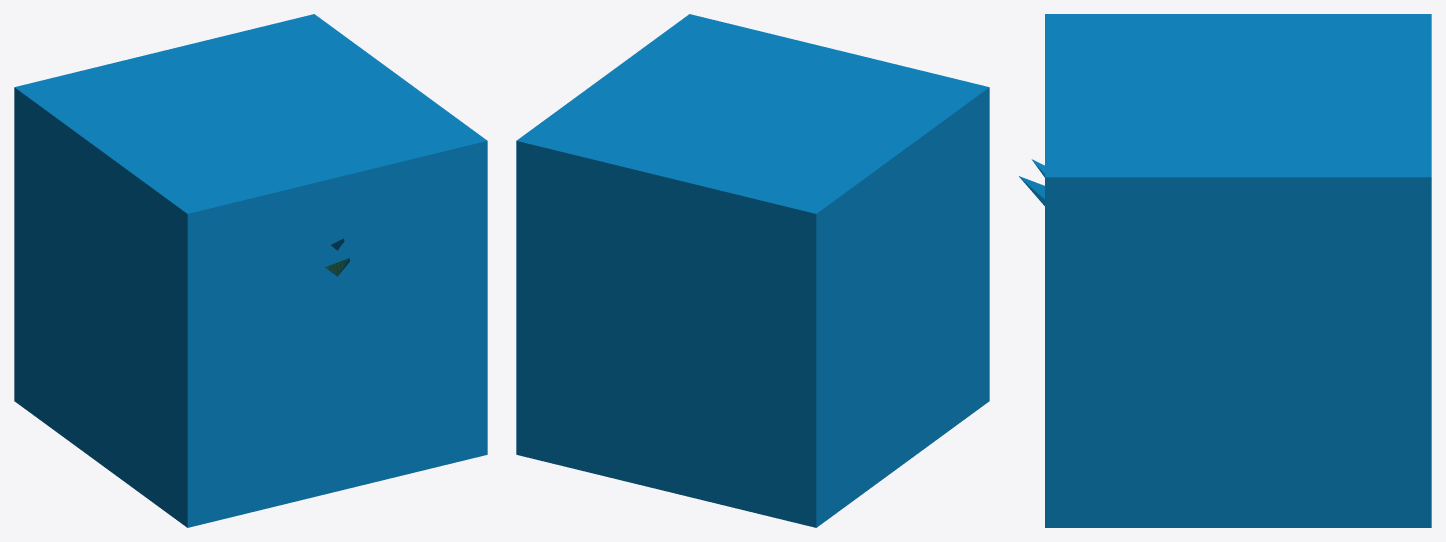
The model's file is grass.fbx.
3 views of the same model, side by side, from view 1: azimuth 30°, elevation 25°; view 2: azimuth 150°, elevation 25°; view 3: azimuth 270°, elevation 25° (orthographic). The views are drawn at different scales.
Parts seen in each view (by area): view 1: base; view 2: base; view 3: base.
Part boxes in pixels (x1,y1,x2,y2): base: (14, 14, 487, 527); base: (516, 14, 989, 527); base: (1045, 14, 1431, 527).
Size of the model in its own units: 100 by 100 by 107.
